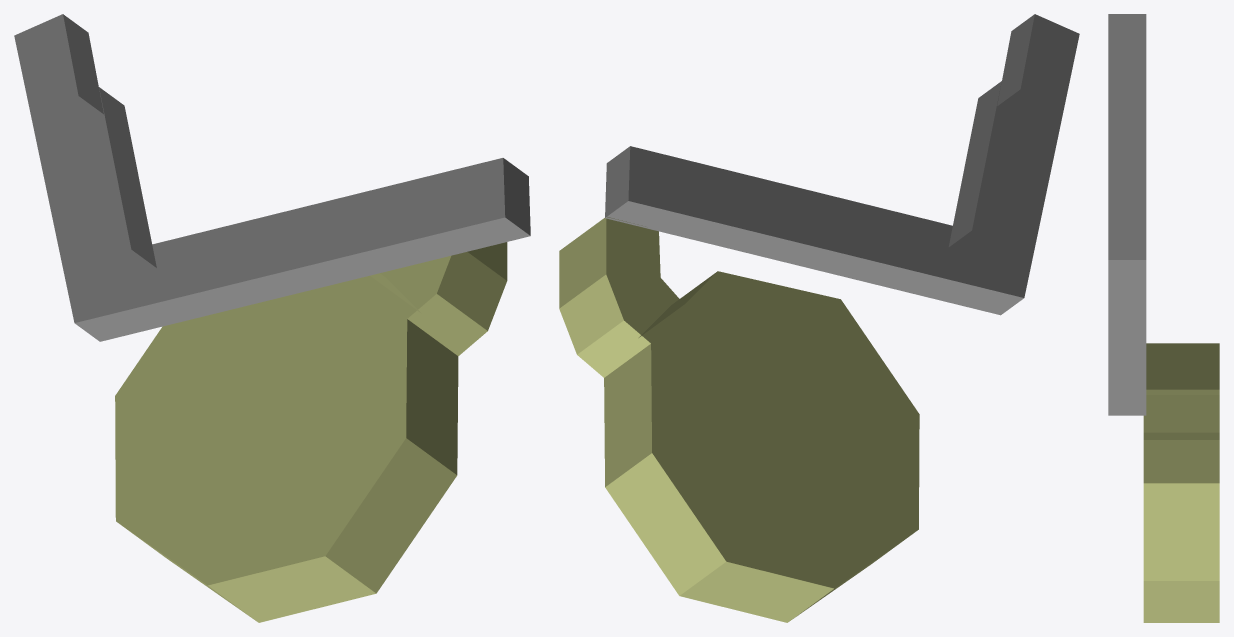
The picture shows the model from 3 angles, left to right: view 1: azimuth 30°, elevation 25°; view 2: azimuth 150°, elevation 25°; view 3: azimuth 270°, elevation 25°; orthographic projection. The views are drawn at different scales.
Parts seen in each view (by area): view 1: 0_3_2_0_2_0_2_3_2; view 2: 0_3_2_0_2_0_2_3_2; view 3: 0_3_2_0_2_0_2_3_2.
Boxes of the visible parts, bbox=[...] form: 0_3_2_0_2_0_2_3_2: bbox=[14, 14, 530, 622]; 0_3_2_0_2_0_2_3_2: bbox=[559, 14, 1079, 622]; 0_3_2_0_2_0_2_3_2: bbox=[1108, 14, 1219, 622].
Bounding box in the file's own units: 33.27 × 42.38 × 8.8.
